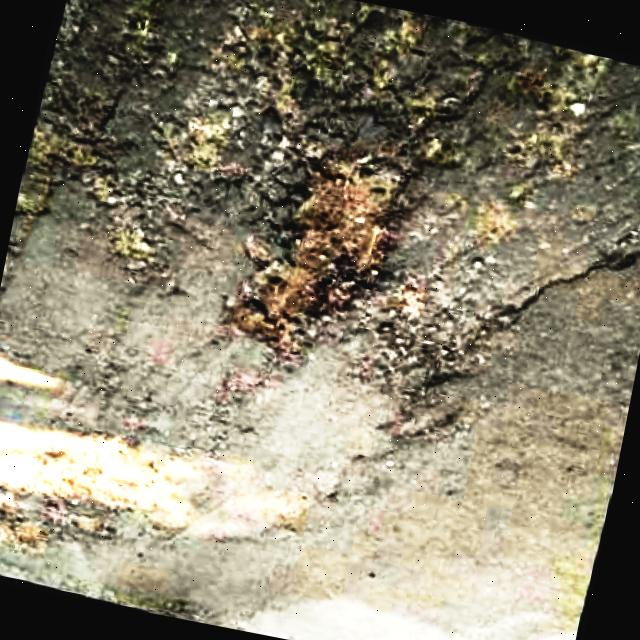pothole: (216, 125, 430, 382), (239, 5, 490, 164), (352, 264, 528, 459), (20, 88, 146, 207)
